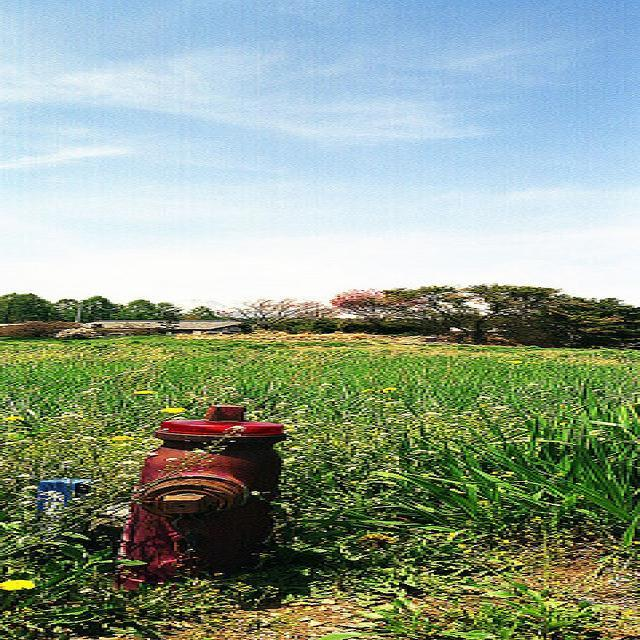fire_hydrant: (110, 403, 286, 596)
